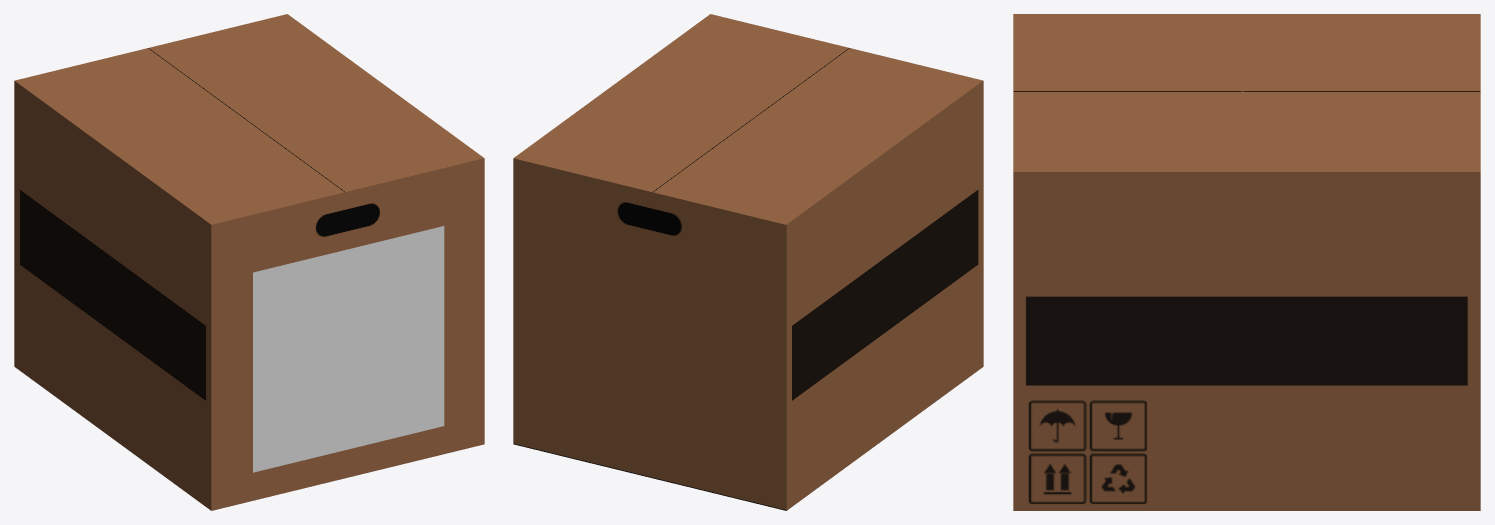
3 views of the same model, side by side, from view 1: azimuth 30°, elevation 25°; view 2: azimuth 150°, elevation 25°; view 3: azimuth 270°, elevation 25° (orthographic). The views are drawn at different scales.
Visible parts, largest first — view 1: Box, Label; view 2: Box; view 3: Box.
Boxes of the visible parts, x1,y1,x2,y2 form: Box: (14, 14, 484, 510); Label: (253, 226, 444, 472); Box: (513, 14, 983, 510); Box: (1013, 14, 1480, 510).
Bounding box in the file's own units: 20 × 20 × 25.06.
1 material, 1 textured.
